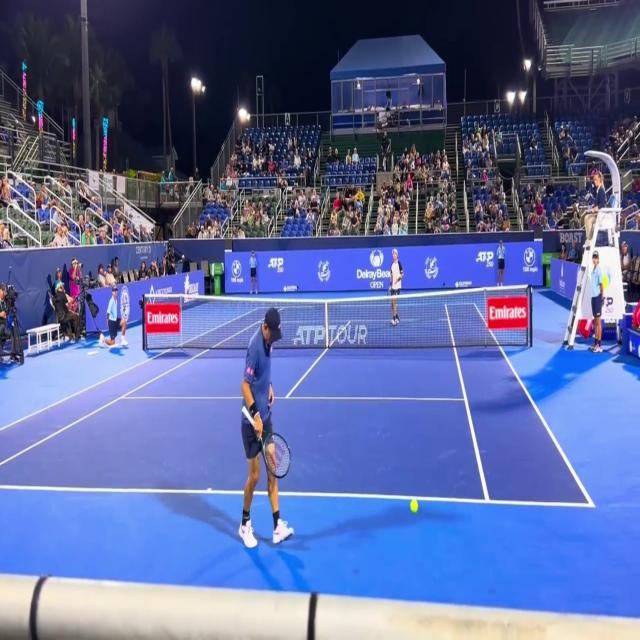tennisBall: (407, 496, 421, 521)
